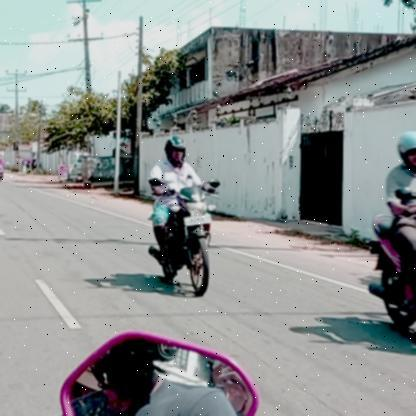motorcycle: (143, 186, 221, 300), (363, 198, 416, 361)
